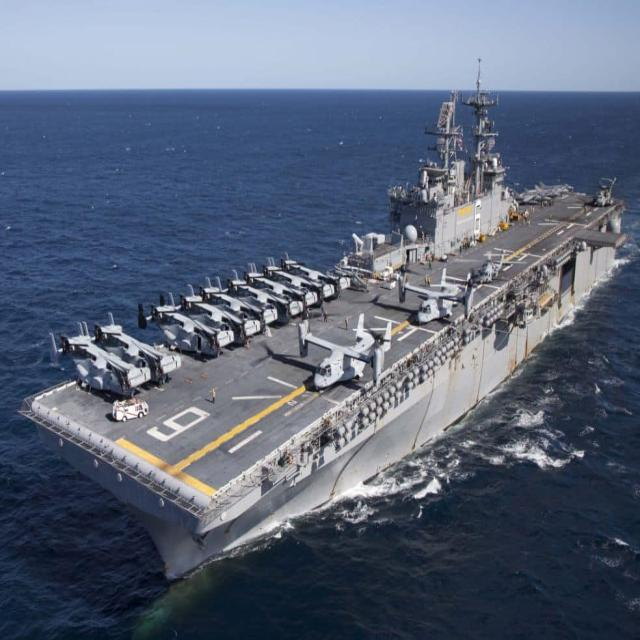navalvessels: (0, 48, 628, 605)
